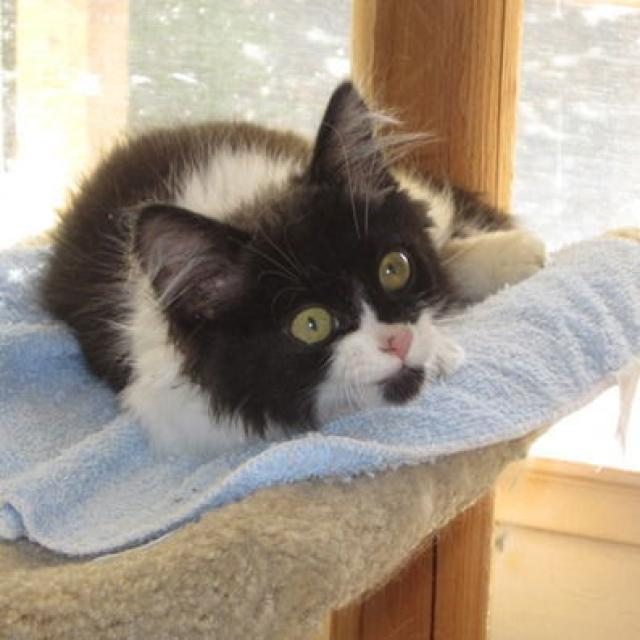maine_coon_cat: (125, 75, 473, 453)
